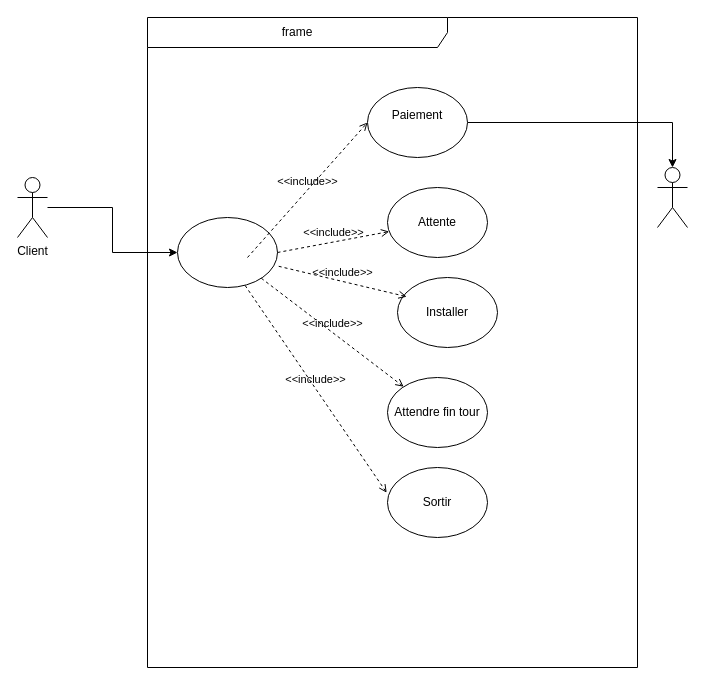
Image size: 711x685. Some labels were removed from this diagram. The shapes that lost their labels are listed below. From the top down, each one's box as (x1, y1, x2, y2) in pixels, then its label:
(656, 166, 688, 228): Caissier
(176, 216, 278, 288): Tour de manège
